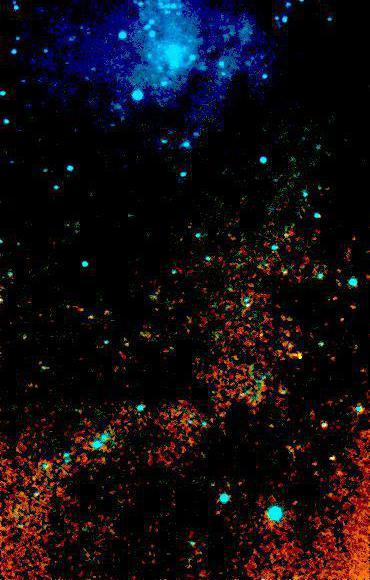star: (282, 341, 312, 371)
